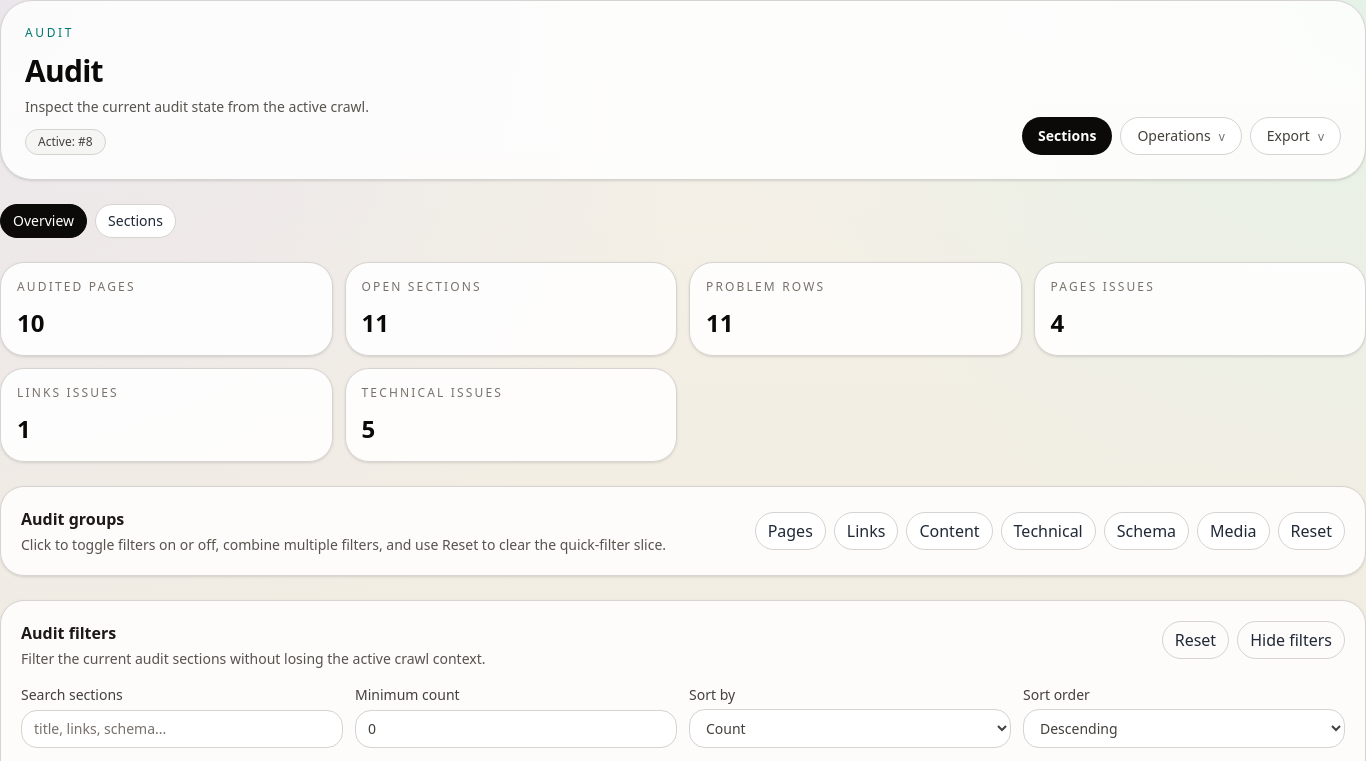
it: SiteAuditWorkspacePage › renders overview with quick filters and resettable multi-select
The width and height of the screenshot is (1366, 761).
Expected: the heading "Audit" is shown, [25, 50, 103, 91]
Expected: the heading "Audit groups" is shown, [21, 508, 124, 530]
Click the text "Operations" at (1174, 136), box [1137, 126, 1211, 145]
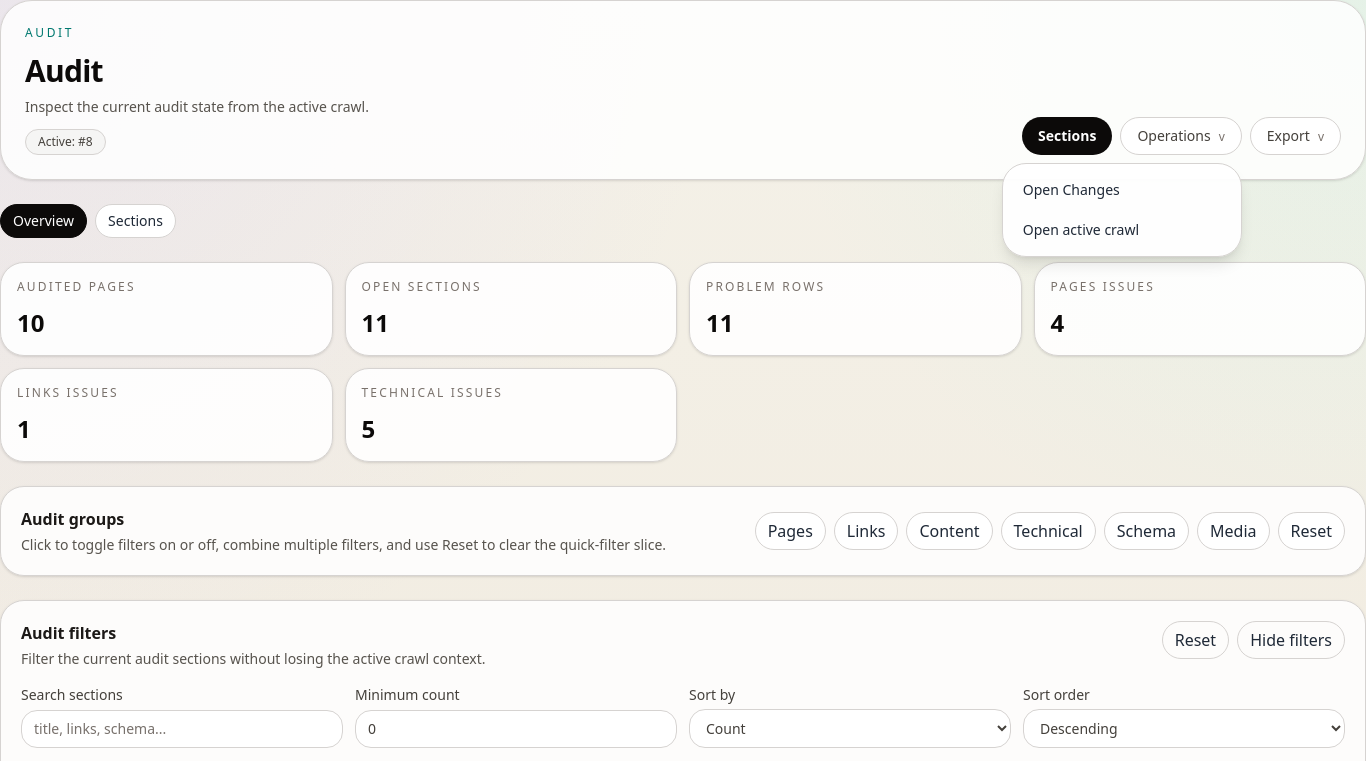
Click the button "Pages" at (790, 531), box [755, 512, 826, 550]
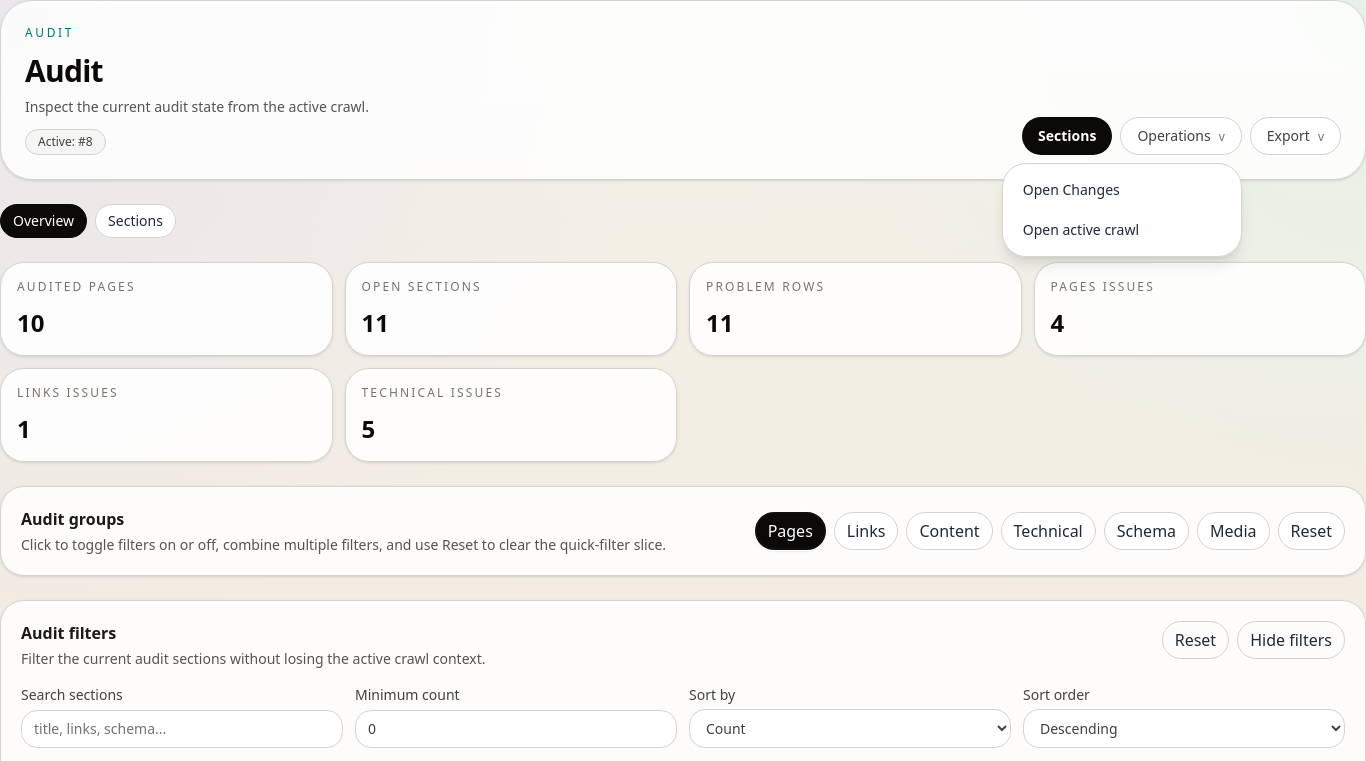
Click the button "Links" at (866, 531), box [834, 512, 898, 550]
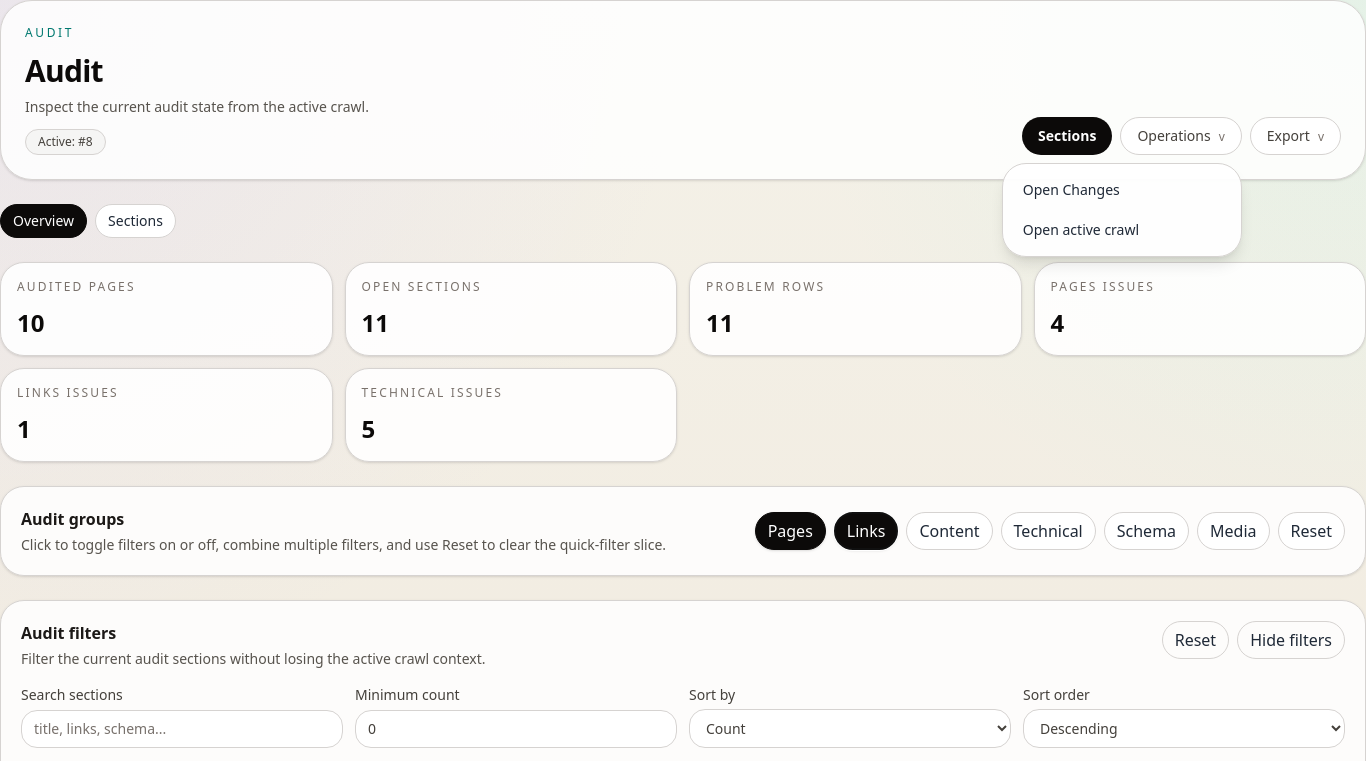
Expected: the text "Pages with thin content" is not shown
Expected: the element "Audit groups" is shown, [0, 486, 1365, 576]
Click the button "Reset" in the row of "Audit groups" at (1311, 531), box [1278, 512, 1345, 550]
(page scrolled)
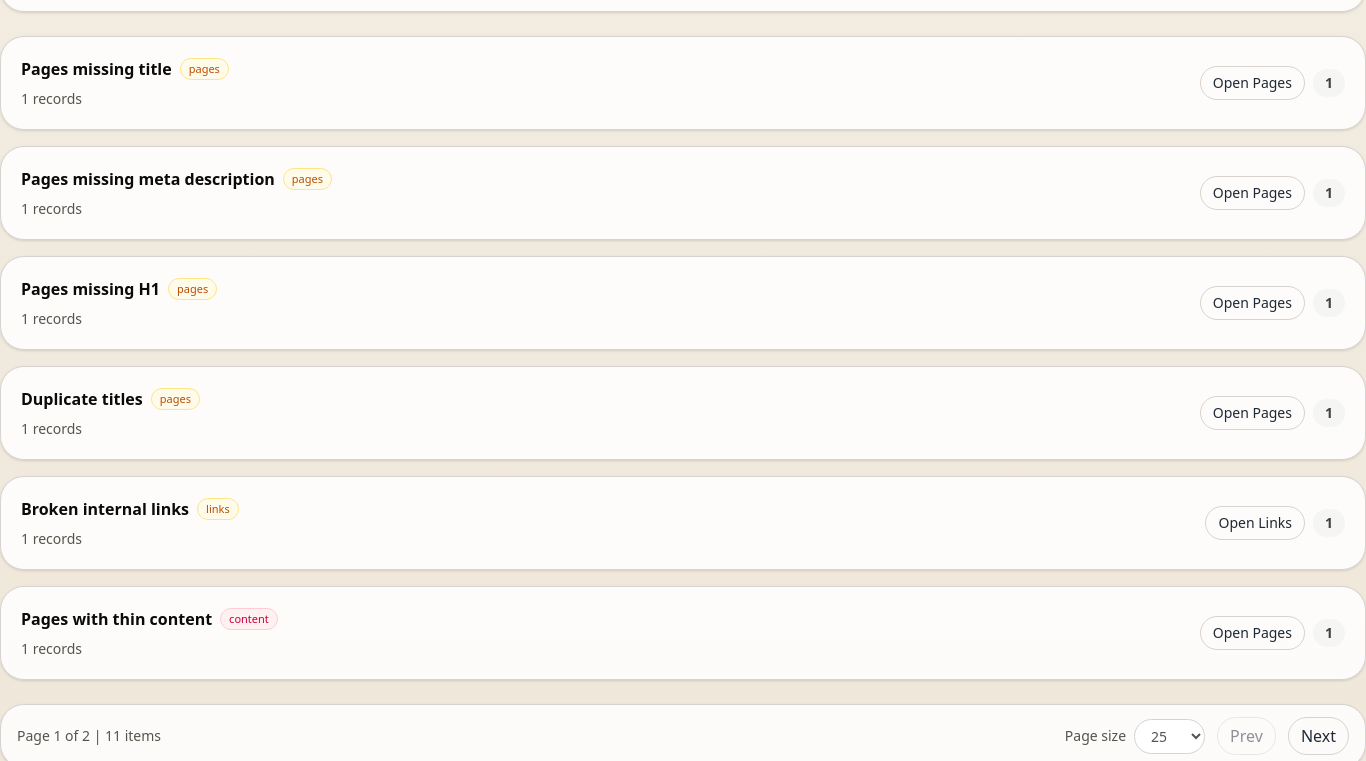
Now the text "Pages with thin content" is shown, box [21, 607, 212, 631]
